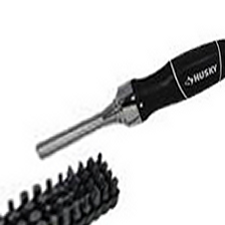screwdriver: (33, 39, 225, 162)
